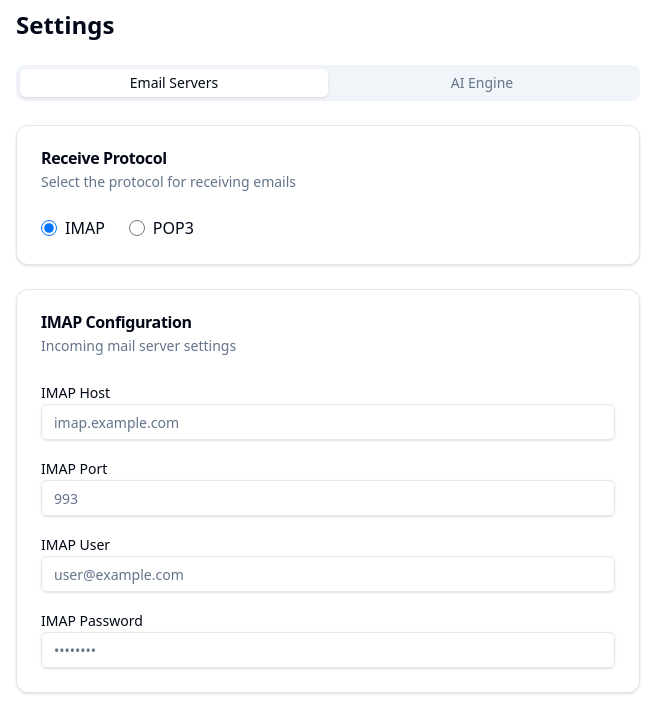
Test: SettingsPage › Protocol Type Selector › should show POP3 config when POP3 is selected
// Click POP3 radio button
Click the radio button labelled "POP3".
click(137, 228)  # box [129, 220, 145, 236]
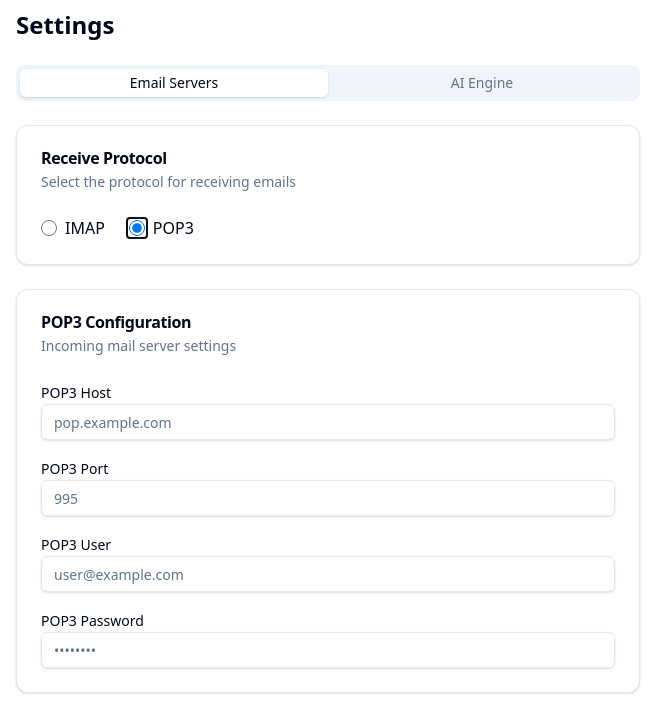
expect the text "POP3 Configuration" is shown: met, box [41, 311, 191, 333]
expect the field with placeholder "pop.example.com" is shown: met, box [41, 404, 615, 440]
expect the field with placeholder "995" is shown: met, box [41, 480, 615, 516]
